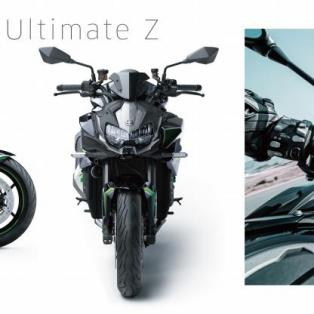Motocicleta: (30, 38, 236, 303)
